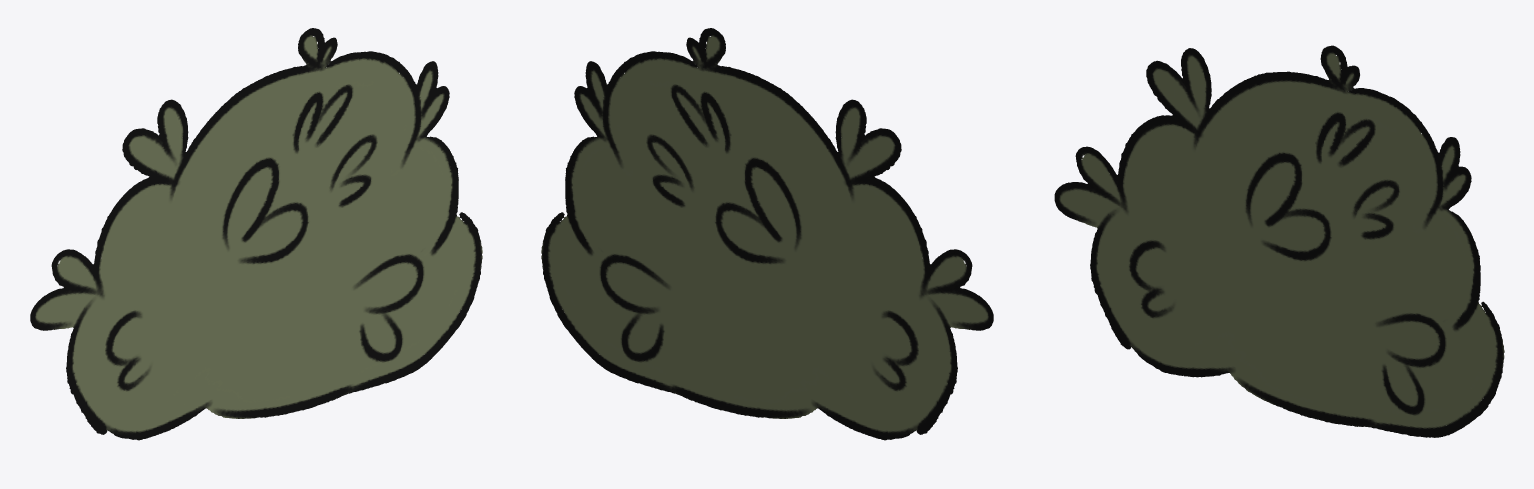
Rendered from bush2Card.fbx.
3 renders of one model, left to right at view 1: azimuth 30°, elevation 25°; view 2: azimuth 150°, elevation 25°; view 3: azimuth 330°, elevation 25°, orthographic.
Visible parts, largest first — view 1: polySurface30; view 2: polySurface30; view 3: polySurface30.
Part boxes in pixels (left/top/right/bottom): polySurface30: left=30, top=28, right=482, bottom=440; polySurface30: left=541, top=28, right=993, bottom=440; polySurface30: left=1054, top=45, right=1504, bottom=437.
Bounding box in the file's own units: 29.05 × 23.48 × 0.
Materials: 1 (1 with a texture image).
